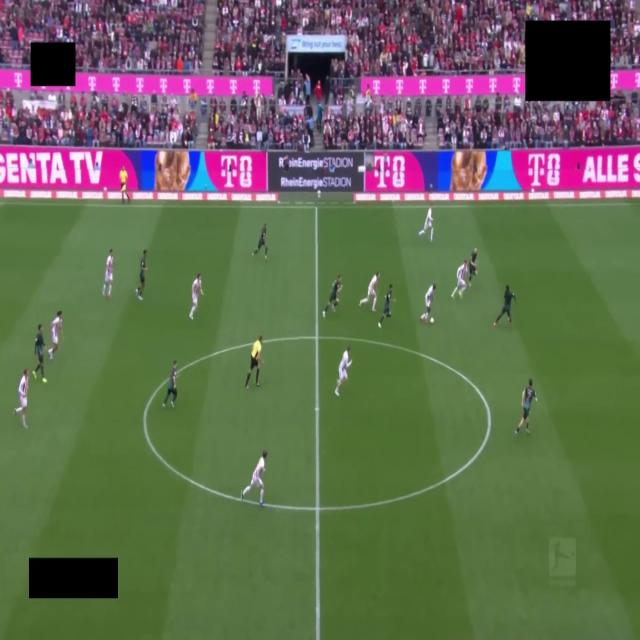ball: (430, 318, 433, 324)
player: (241, 450, 267, 506), (515, 379, 537, 435), (493, 286, 515, 327), (14, 369, 28, 428), (335, 346, 351, 396), (323, 275, 341, 317), (360, 272, 379, 311), (48, 311, 63, 359), (34, 324, 46, 383), (162, 360, 177, 407), (190, 273, 203, 319), (420, 283, 435, 322), (452, 260, 467, 297), (379, 285, 392, 327), (102, 249, 113, 298), (252, 224, 267, 259), (136, 250, 146, 300), (419, 208, 433, 241), (469, 248, 477, 286)
referee: (245, 335, 262, 389)
